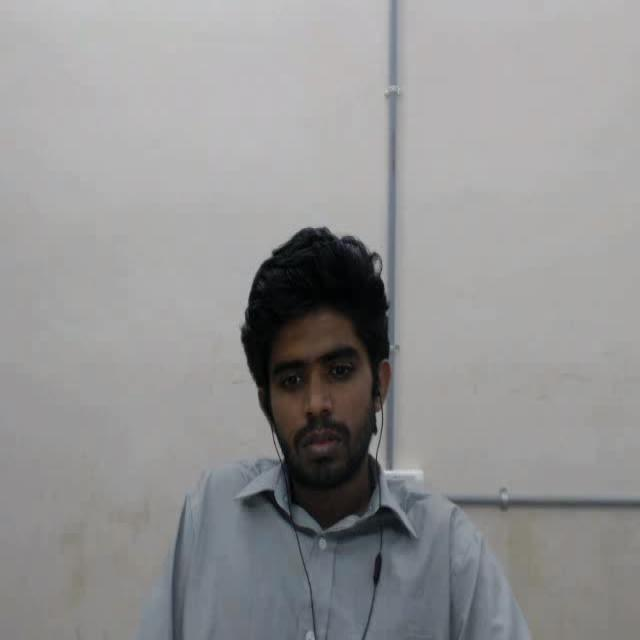Engaged: (200, 211, 451, 492)
